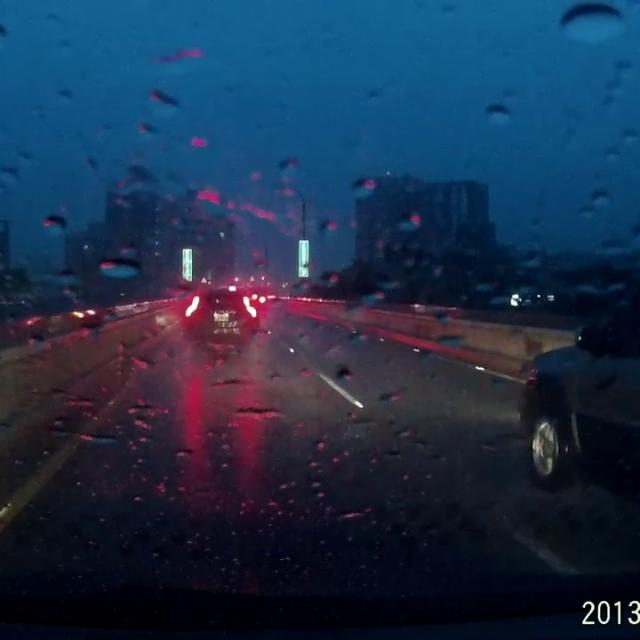Car: (513, 281, 639, 490), (178, 285, 257, 344)
